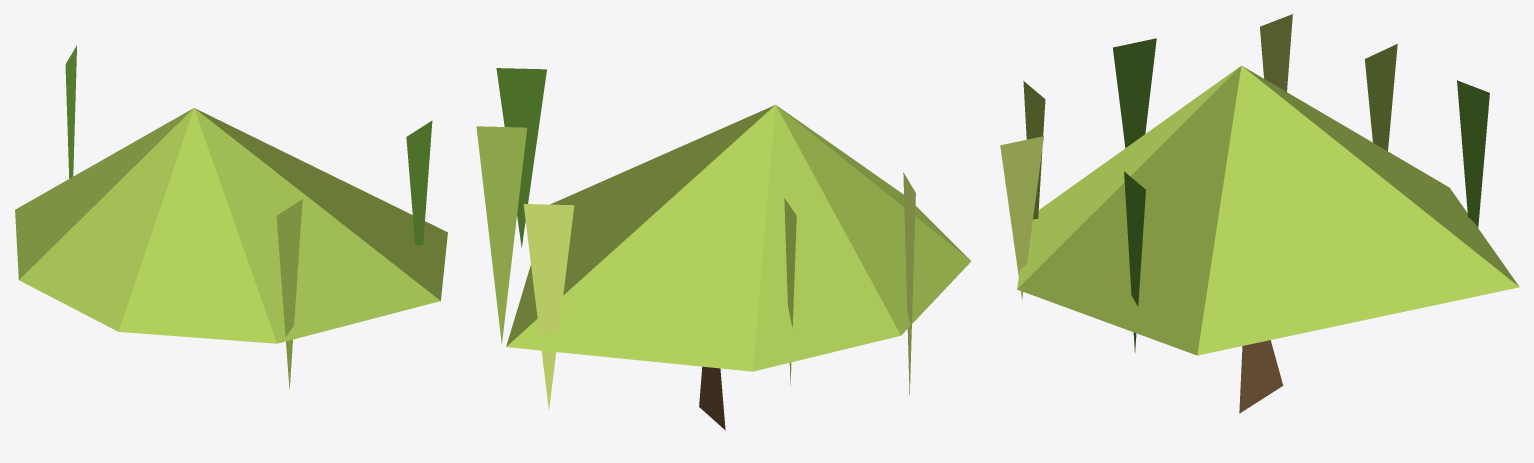
The model's file is tree_willow_2_lod2.glb.
3 renders of one model, left to right at view 1: azimuth 30°, elevation 25°; view 2: azimuth 150°, elevation 25°; view 3: azimuth 270°, elevation 25°, orthographic. The views are drawn at different scales.
Parts seen in each view (by area): view 1: tree_willow_2_lod2; view 2: tree_willow_2_lod2; view 3: tree_willow_2_lod2.
Part boxes in pixels (x1,y1,x2,y2): tree_willow_2_lod2: (15,45,447,389); tree_willow_2_lod2: (476,68,971,430); tree_willow_2_lod2: (1000,14,1519,413).
Bounding box in the file's own units: 5.8 × 4.6 × 6.1.
